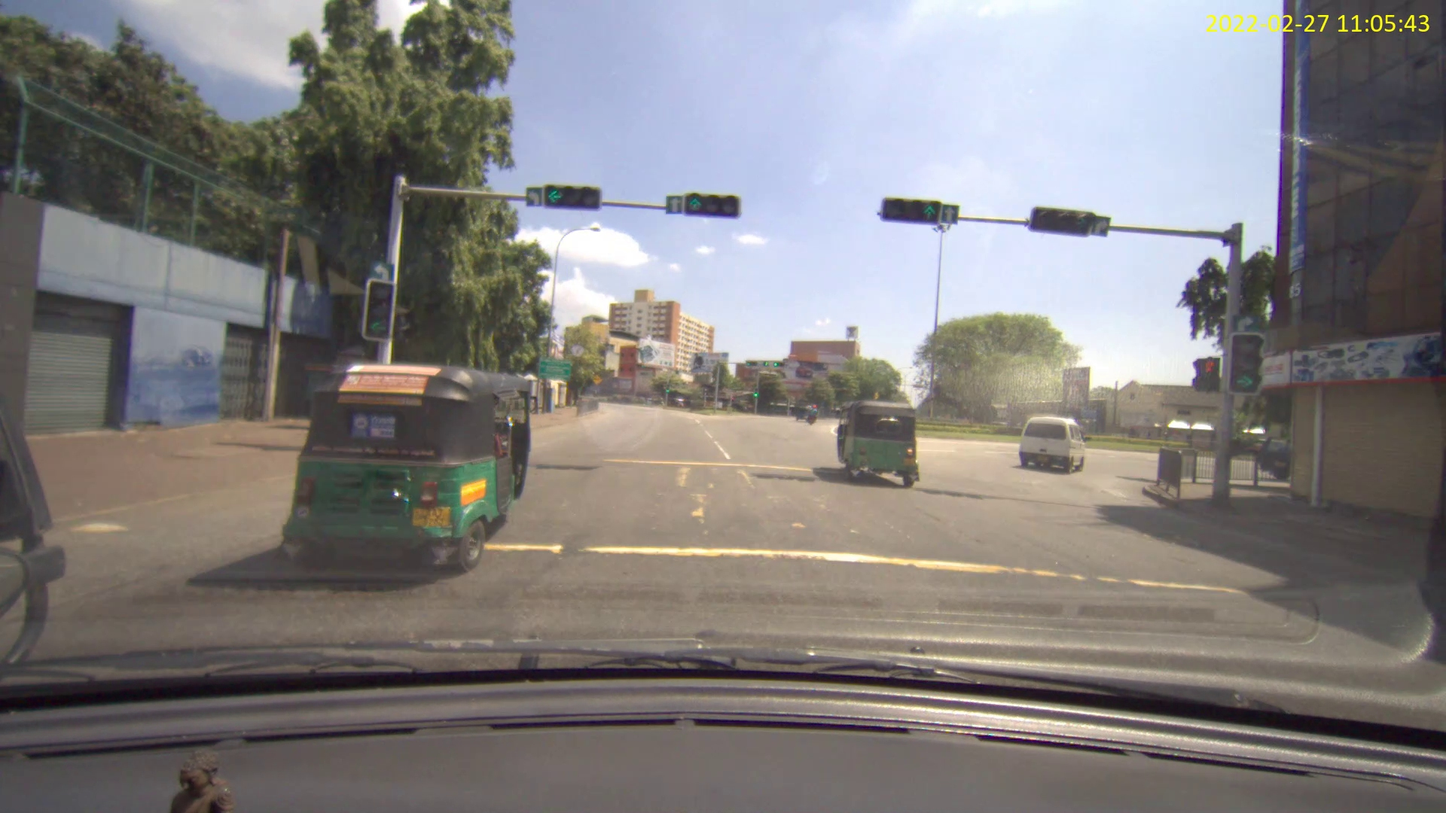Green: (1027, 207, 1094, 237)
Green-left: (361, 277, 396, 343), (541, 184, 602, 212)
Green-right: (1227, 331, 1263, 395)
Green-up: (880, 196, 941, 225), (682, 193, 742, 220)
